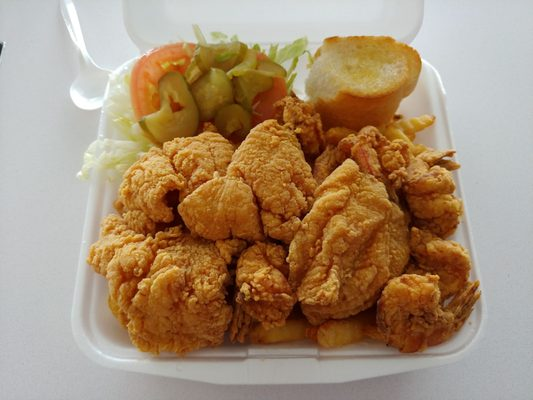curry: (0, 0, 511, 400)
